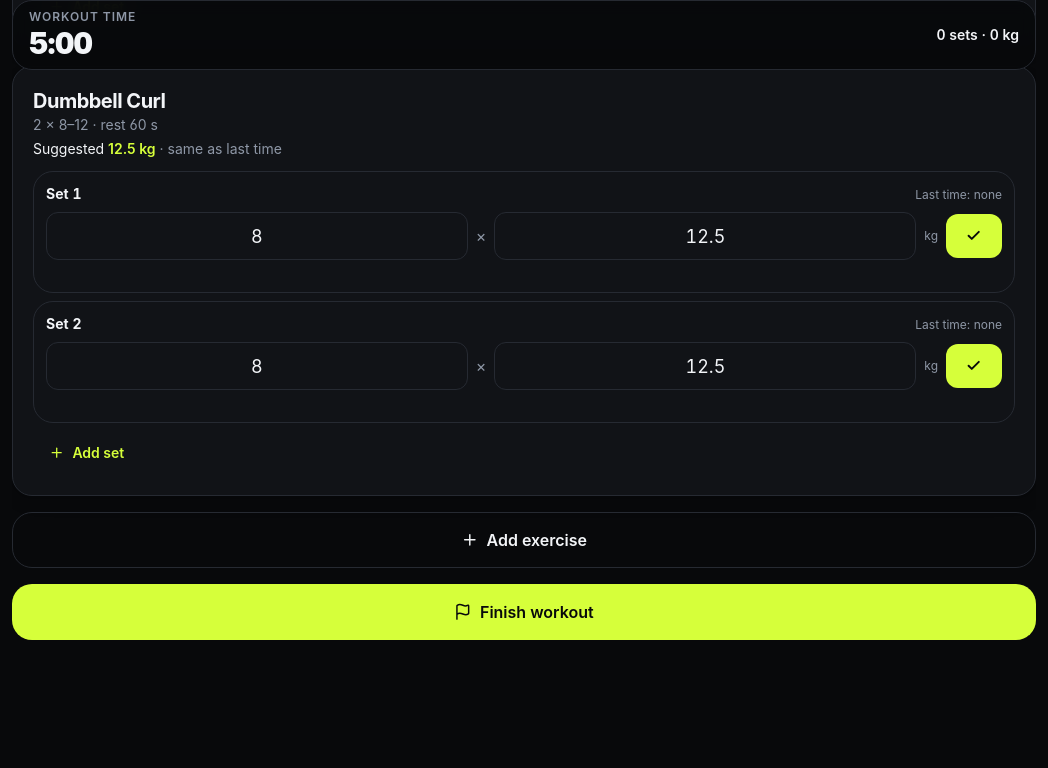
workout screen › finishes: flushes the queue first, then shows the summary
The width and height of the screenshot is (1048, 768).
(page scrolled)
Click the button "Finish workout": (524, 612) [12,584,1036,640]
(page scrolled)
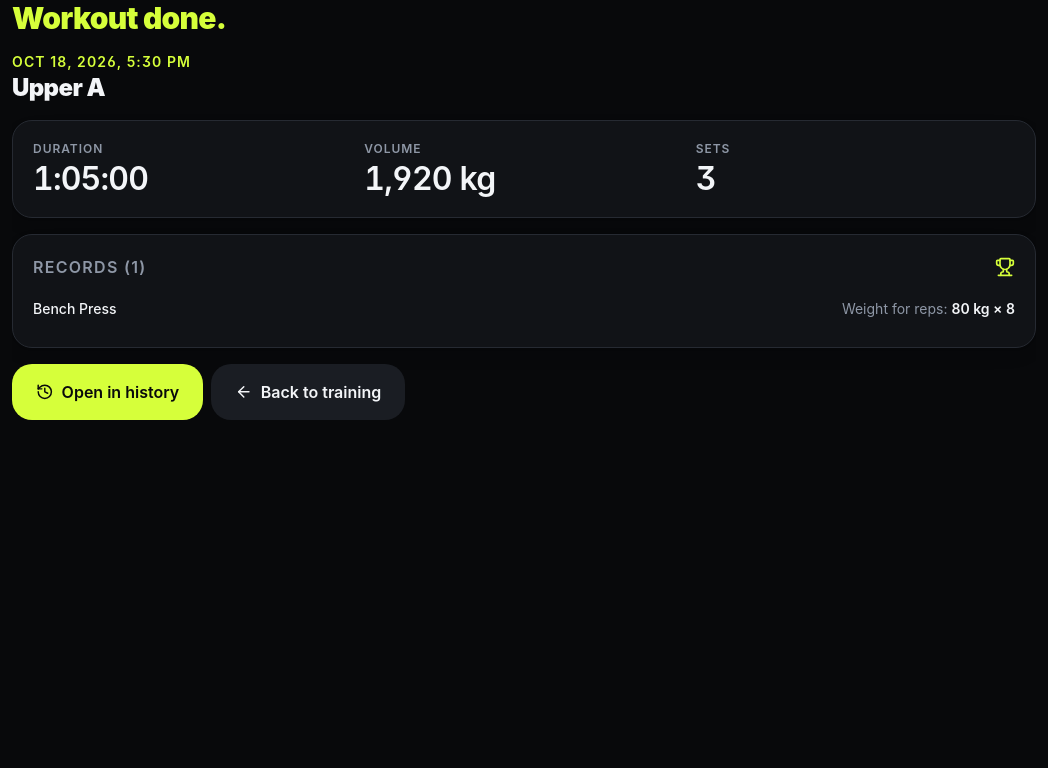
Expected: the element with test id "workout-summary" shows "1:05:00", [33,159,148,198]
Expected: the element with test id "workout-summary" shows "1,920 kg", [364,159,495,198]
Expected: the text "80 kg × 8" is shown, [951,300,1015,317]
